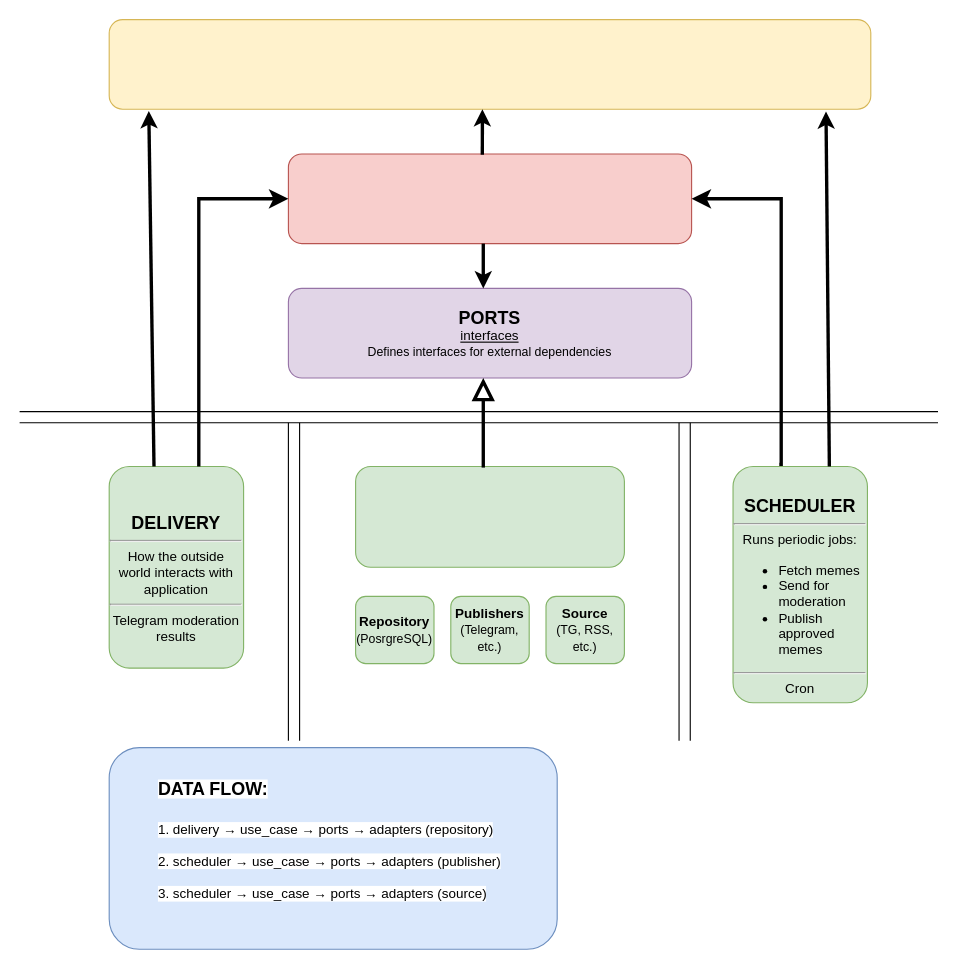
Image size: 959x969. Some labels were removed from this diagram. The centre of each missing label's shape, as x and y in pixels:
ADAPTERS Implements ports.Handles infractructure: the point at 489,516
DOMAIN Entities: the point at 489,63
USE CASE Business logic Defines workflows and implements business logic: the point at 489,198
